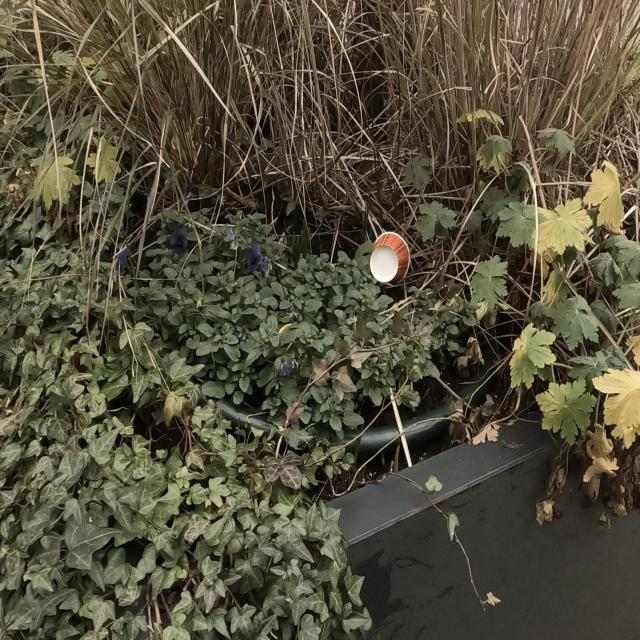Cup: (372, 228, 411, 290)
